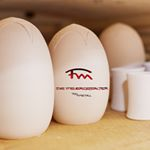other: (45, 18, 113, 126)
